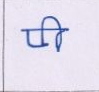i_matra: (45, 16, 64, 53)
